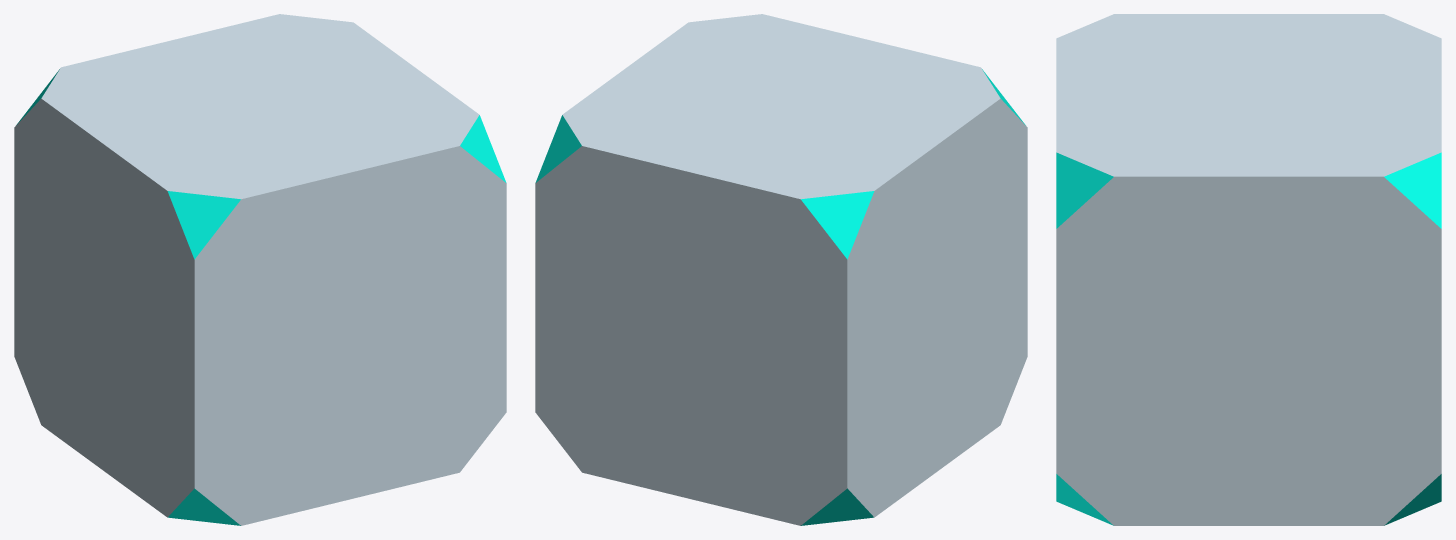
The picture shows the model from 3 angles, left to right: view 1: azimuth 30°, elevation 25°; view 2: azimuth 150°, elevation 25°; view 3: azimuth 270°, elevation 25°; orthographic projection. The views are drawn at different scales.
Parts seen in each view (by area): view 1: box-d; view 2: box-d; view 3: box-d.
Part boxes in pixels (x1=…): box-d: x1=14, y1=14, x2=506, y2=525; box-d: x1=535, y1=14, x2=1027, y2=525; box-d: x1=1056, y1=14, x2=1441, y2=525.
Size of the model in its own units: 100 by 100 by 100.
